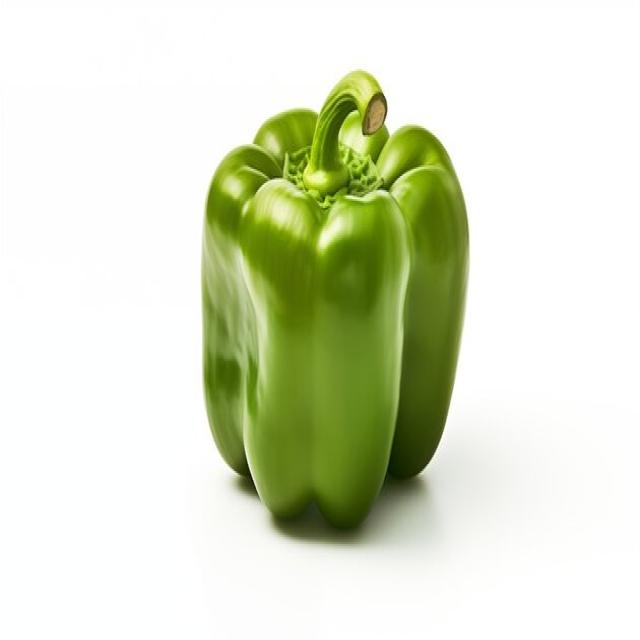Bell Pepper: (200, 68, 470, 530)
